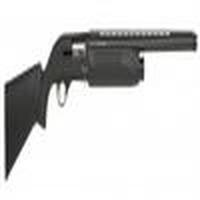gun: (3, 29, 200, 172)
